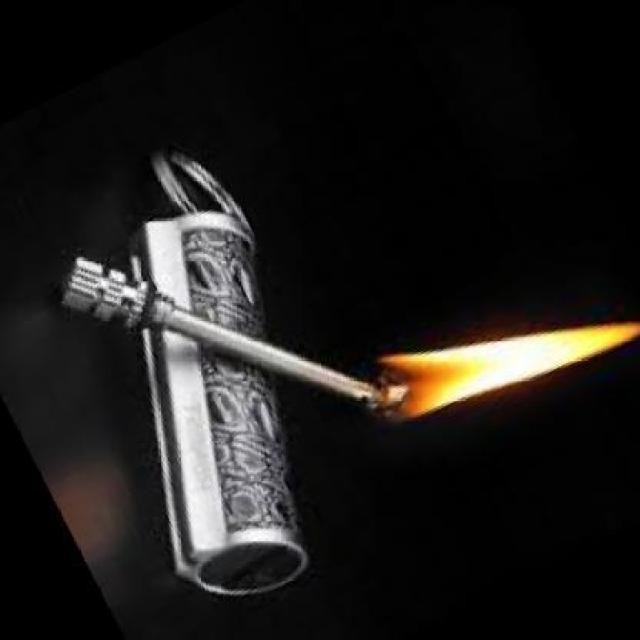Fire: (373, 319, 639, 428)
